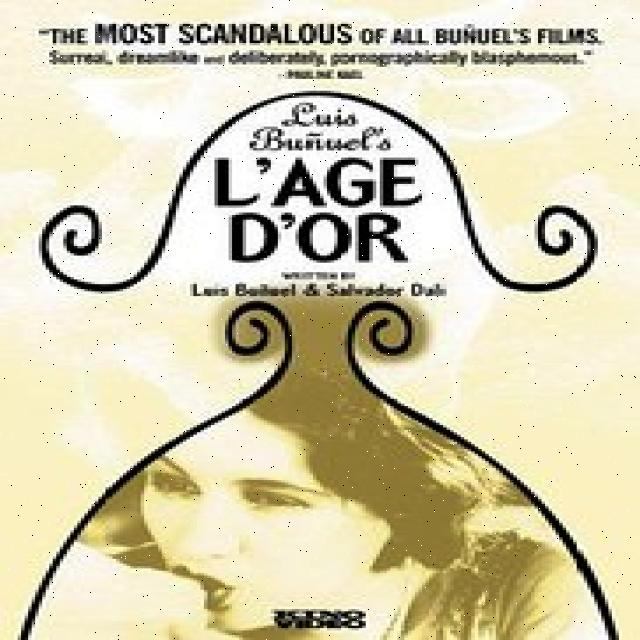movie-judul: (204, 151, 441, 274)
picture: (154, 406, 525, 640)
